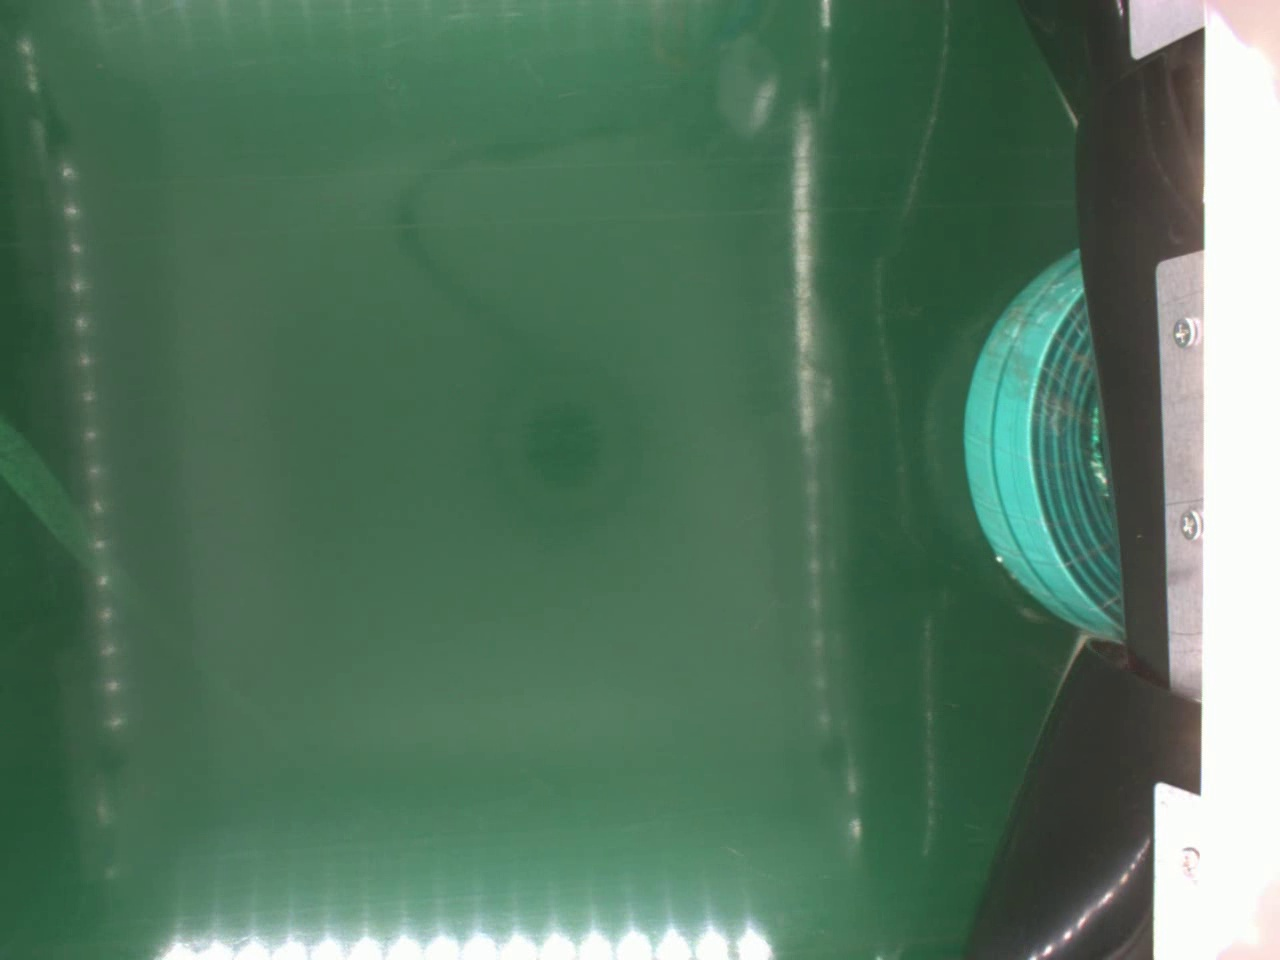green: (959, 246, 1125, 640)
